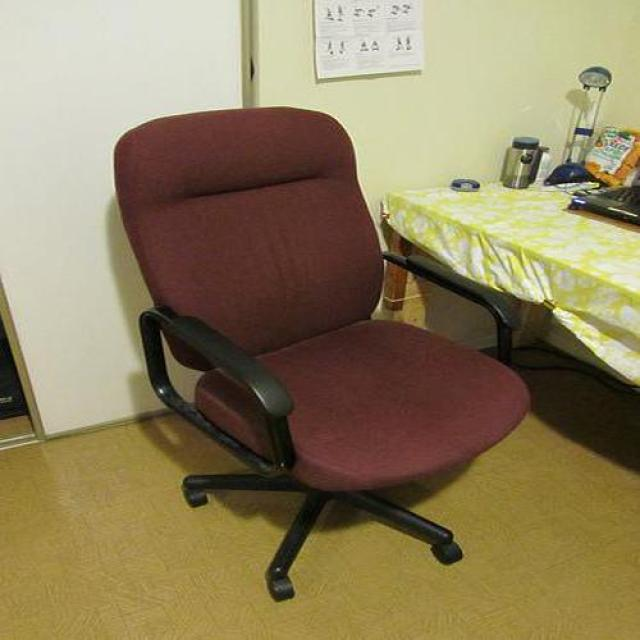swivelchair: (113, 108, 531, 604)
